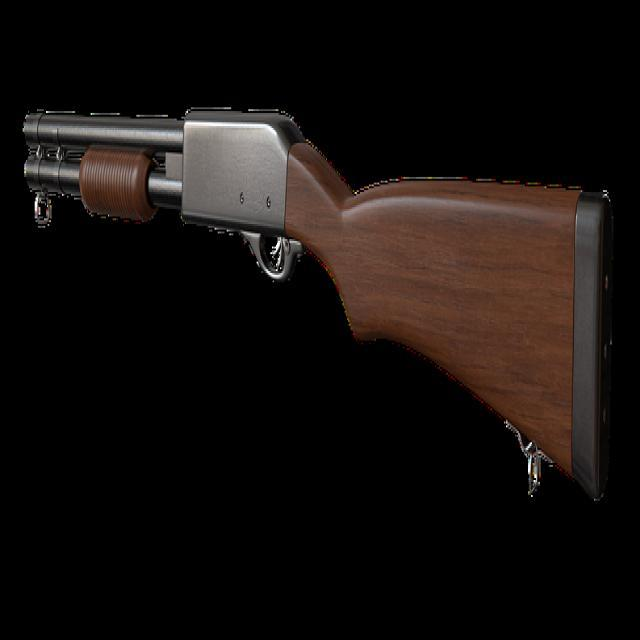shotgun: (20, 87, 620, 524)
